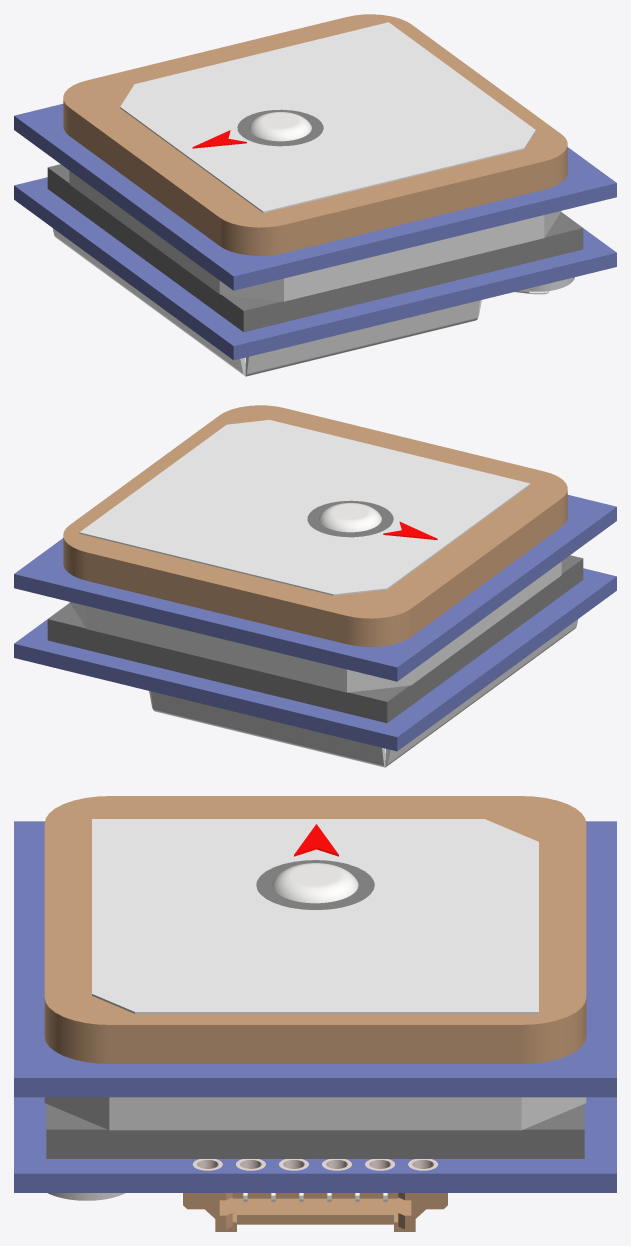
File: gps.gltf
3 renders of one model, top to bottom at view 1: azimuth 30°, elevation 25°; view 2: azimuth 150°, elevation 25°; view 3: azimuth 270°, elevation 25°, orthographic. The views are drawn at different scales.
Parts seen in each view (by area): view 1: Body1009; view 2: Body1009; view 3: Body1009, model_1.STL.
Boxes of the visible parts, x1=… form: Body1009: x1=14, y1=14, x2=616, y2=376; Body1009: x1=14, y1=405, x2=616, y2=767; Body1009: x1=14, y1=796, x2=616, y2=1231; model_1.STL: x1=294, y1=824, x2=338, y2=856.
Bounding box in the file's own units: 28.2 × 11.8 × 28.
